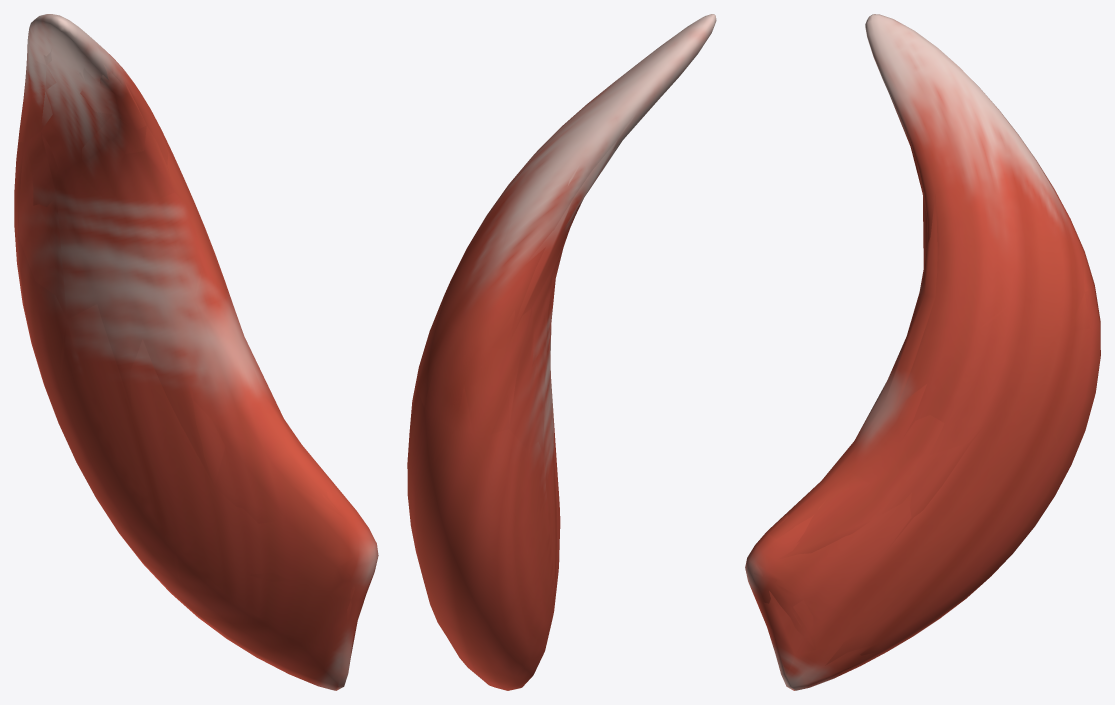
The model's file is L Semimembranosus.fbx.
3 renders of one model, left to right at view 1: azimuth 30°, elevation 25°; view 2: azimuth 150°, elevation 25°; view 3: azimuth 270°, elevation 25°, orthographic. The views are drawn at different scales.
Parts seen in each view (by area): view 1: L Semimembranosus, L Semimembranosus low; view 2: L Semimembranosus, L Semimembranosus low; view 3: L Semimembranosus, L Semimembranosus low.
Boxes of the visible parts, x1,y1,x2,y2 form: L Semimembranosus: [14, 14, 378, 690]; L Semimembranosus low: [14, 35, 376, 690]; L Semimembranosus: [407, 14, 716, 690]; L Semimembranosus low: [409, 101, 657, 681]; L Semimembranosus: [745, 14, 1100, 690]; L Semimembranosus low: [746, 97, 1100, 677].
Size of the model in its own units: 8.63 by 22.25 by 12.32.
